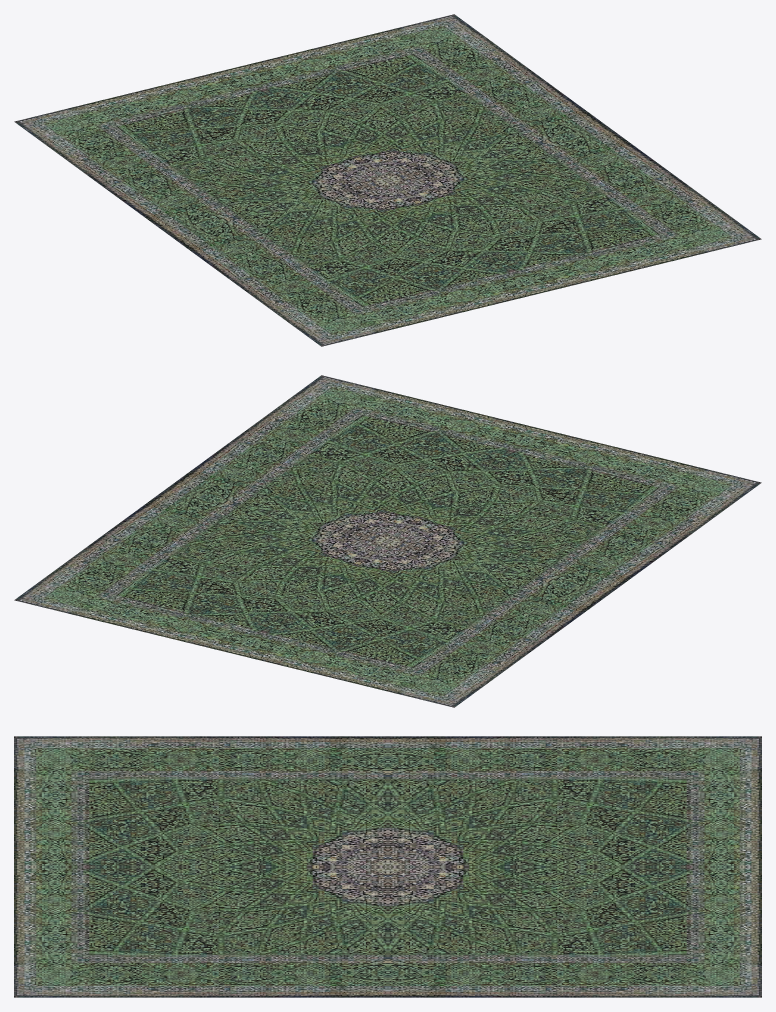
The model's file is frn_all_rug_rectangle_lg_s05.fbx.
3 views of the same model, one above another, from view 1: azimuth 30°, elevation 25°; view 2: azimuth 150°, elevation 25°; view 3: azimuth 270°, elevation 25° (orthographic). The views are drawn at different scales.
Parts seen in each view (by area): view 1: mesh_node; view 2: mesh_node; view 3: mesh_node.
Part boxes in pixels (x1=…): mesh_node: x1=14, y1=14, x2=761, y2=346; mesh_node: x1=14, y1=375, x2=761, y2=707; mesh_node: x1=14, y1=736, x2=761, y2=997.
Size of the model in its own units: 4.99 by 0 by 6.04.
1 material, 1 textured.
